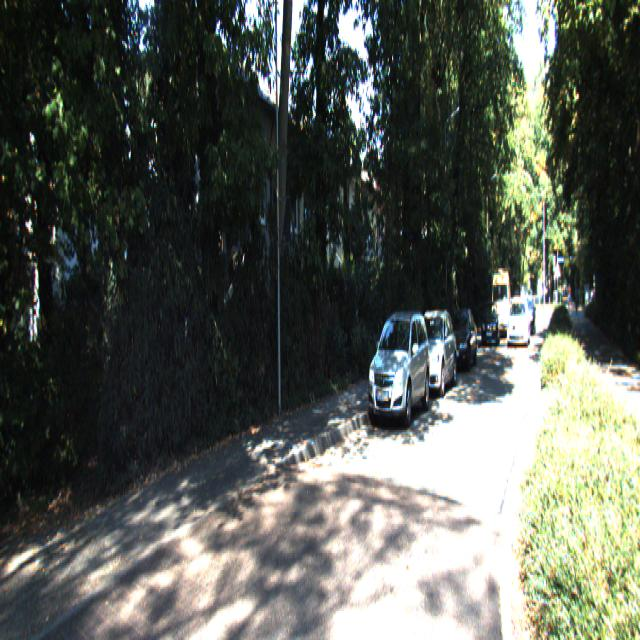Car: (366, 307, 431, 432), (408, 308, 458, 399), (449, 310, 479, 374), (492, 267, 512, 339), (507, 296, 531, 346), (482, 302, 501, 350)
